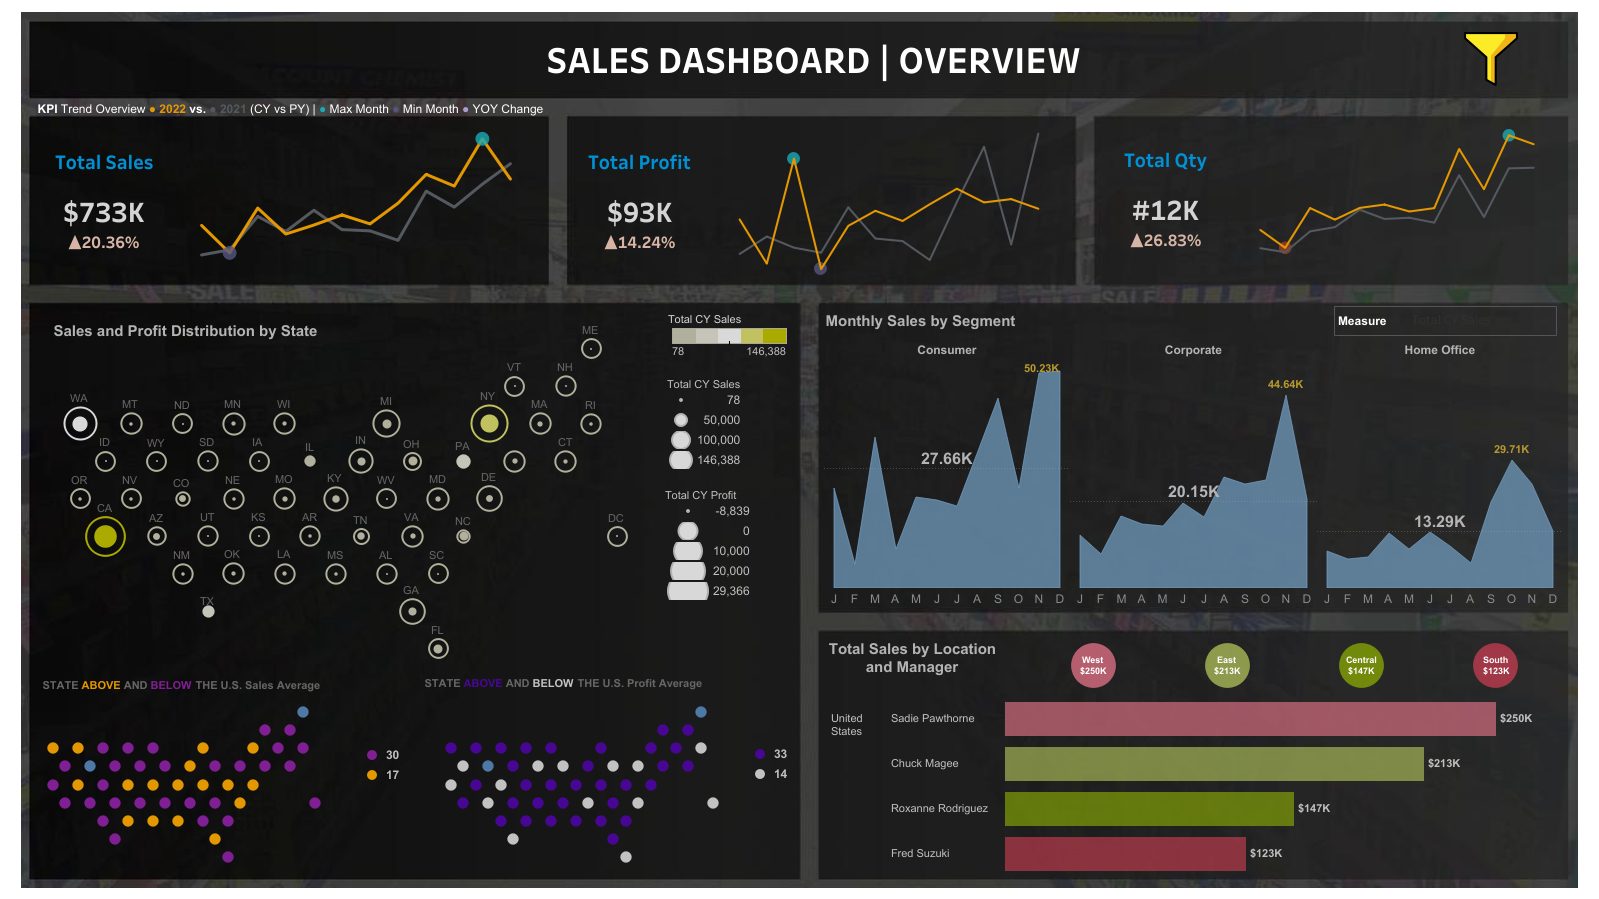

Layout of this report page (visuals, bound fields, positions):
{"tool":"tableau","page":{"name":"Sales Dashboard","canvas":[1600,900],"ordinal":0},"visuals":[{"type":"image","param":"Image/Sales Dashboard Background.pptx (1).jpg","box":[8,8,1584,884]},{"type":"text","box":[521,27,586,62]},{"type":"dashboard-object","box":[1452,32,78,54]},{"type":"filter","title":"Sales and Profit by State","param":"[federated.0rkr8zk1cq4f9t12oe1uq0y3o5qw].[none:Category:nk]","box":[1331,86,135,64]},{"type":"text","box":[35,100,526,17]},{"type":"worksheet","title":"Qty KPI","mark":"Automatic","box":[1102,119,129,160]},{"type":"worksheet","title":"Qty Sparkline","mark":"Automatic","rows":["min max Profit (copy)_552535420926943247"],"cols":["Order Date"],"box":[1231,119,331,160]},{"type":"worksheet","title":"Profit KPI","mark":"Automatic","box":[573,121,135,159]},{"type":"worksheet","title":"Profit Sparkline","mark":"Automatic","rows":["min max month (copy)_552535420923228174"],"cols":["Order Date"],"box":[708,121,361,159]},{"type":"worksheet","title":"Sales KPI","mark":"Automatic","box":[40,122,129,158]},{"type":"worksheet","title":"Sales Sparkline","mark":"Automatic","rows":["Calculation_552535420903432205"],"cols":["Order Date"],"box":[169,122,373,158]},{"type":"filter","title":"Sales and Profit by State","param":"[federated.0rkr8zk1cq4f9t12oe1uq0y3o5qw].[none:Region:nk]","box":[1331,150,135,52]},{"type":"filter","title":"Sales and Profit by State","param":"[federated.0rkr8zk1cq4f9t12oe1uq0y3o5qw].[none:Ship Mode:nk]","box":[1331,202,135,52]},{"type":"parameter","param":"[Parameters].[Parameter 1]","box":[1334,306,223,30]},{"type":"legend","title":"Sales and Profit by State","param":"[federated.0rkr8zk1cq4f9t12oe1uq0y3o5qw].[sum:Calculation_552535420868837376:qk]","box":[668,309,123,61]},{"type":"text","box":[823,309,214,23]},{"type":"worksheet","title":"Sales and Profit by State","mark":"Circle","rows":["Row"],"cols":["Column","Column"],"box":[37,311,617,375]},{"type":"text","box":[51,316,272,30]},{"type":"worksheet","title":"Monthly Sales by Segment","mark":"Area","rows":["Calculation_552535421029572630"],"cols":["Segment","Order Date"],"box":[824,340,739,268]},{"type":"legend","title":"Sales and Profit by State","param":"[federated.0rkr8zk1cq4f9t12oe1uq0y3o5qw].[sum:Calculation_552535420868837376:qk]","box":[666,376,126,102]},{"type":"legend","title":"Sales and Profit by State","param":"[federated.0rkr8zk1cq4f9t12oe1uq0y3o5qw].[sum:Total CY Sales (copy)_552535420877","box":[664,487,133,118]},{"type":"text","box":[823,636,179,44]},{"type":"worksheet","title":"Region wise Sales","mark":"Circle","cols":["Region"],"box":[1026,638,537,54]},{"type":"text","box":[40,670,287,30]},{"type":"text","box":[422,671,290,25]},{"type":"worksheet","title":"Avg Sales by State","mark":"Circle","rows":["Row"],"cols":["Column"],"box":[34,694,300,181]},{"type":"worksheet","title":"Avg Profit by State","mark":"Circle","rows":["Row"],"cols":["Column"],"box":[432,694,300,181]},{"type":"worksheet","title":"Total Sales by Location and Manager","mark":"Automatic","rows":["Country/Region","Regional Manager"],"cols":["Calculation_552535420868837376"],"box":[825,696,737,180]},{"type":"worksheet","title":"Avg Profit by Sate Count","mark":"Circle","rows":["Sales Avg Color (copy)_552535420991152149"],"box":[730,744,63,42]},{"type":"worksheet","title":"Avg Sales by Sate Count","mark":"Circle","rows":["Calculation_552535420982485010"],"box":[342,745,62,42]}]}

Visuals, with their boxes in screenshot pixels (x1, y1, x2, y2), scaled from the page's 1600x900 canvas onto the 1599x899 screenshot:
image: locate(8, 8, 1591, 891)
text: locate(521, 27, 1106, 89)
dashboard-object: locate(1451, 32, 1529, 86)
"Sales and Profit by State" filter: locate(1330, 86, 1465, 150)
text: locate(35, 100, 561, 117)
"Qty KPI" worksheet: locate(1101, 119, 1230, 279)
"Qty Sparkline" worksheet: locate(1230, 119, 1561, 279)
"Profit KPI" worksheet: locate(573, 121, 708, 280)
"Profit Sparkline" worksheet: locate(708, 121, 1068, 280)
"Sales KPI" worksheet: locate(40, 122, 169, 280)
"Sales Sparkline" worksheet: locate(169, 122, 542, 280)
"Sales and Profit by State" filter: locate(1330, 150, 1465, 202)
"Sales and Profit by State" filter: locate(1330, 202, 1465, 254)
parameter: locate(1333, 306, 1556, 336)
"Sales and Profit by State" legend: locate(668, 309, 791, 370)
text: locate(822, 309, 1036, 332)
"Sales and Profit by State" worksheet (Circle marks): locate(37, 311, 654, 685)
text: locate(51, 316, 323, 346)
"Monthly Sales by Segment" worksheet (Area marks): locate(823, 340, 1562, 607)
"Sales and Profit by State" legend: locate(666, 376, 792, 477)
"Sales and Profit by State" legend: locate(664, 486, 797, 604)
text: locate(822, 635, 1001, 679)
"Region wise Sales" worksheet (Circle marks): locate(1025, 637, 1562, 691)
text: locate(40, 669, 327, 699)
text: locate(422, 670, 712, 695)
"Avg Sales by State" worksheet (Circle marks): locate(34, 693, 334, 874)
"Avg Profit by State" worksheet (Circle marks): locate(432, 693, 732, 874)
"Total Sales by Location and Manager" worksheet: locate(824, 695, 1561, 875)
"Avg Profit by Sate Count" worksheet (Circle marks): locate(730, 743, 793, 785)
"Avg Sales by Sate Count" worksheet (Circle marks): locate(342, 744, 404, 786)
